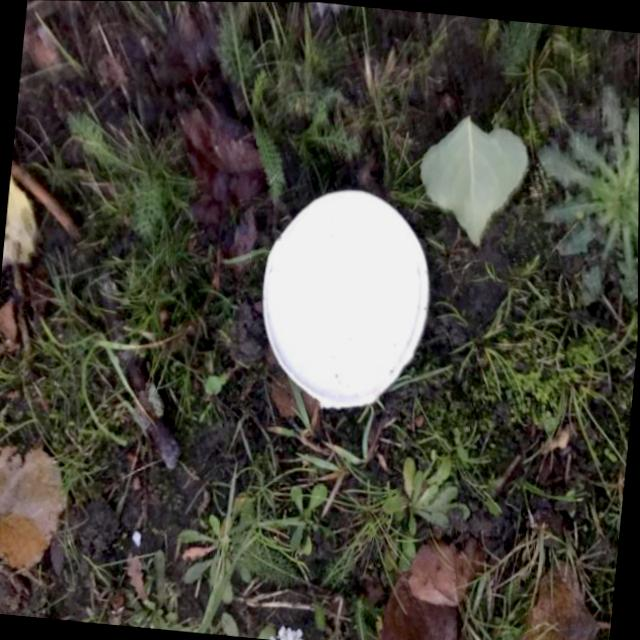Paper: (249, 173, 442, 417)
